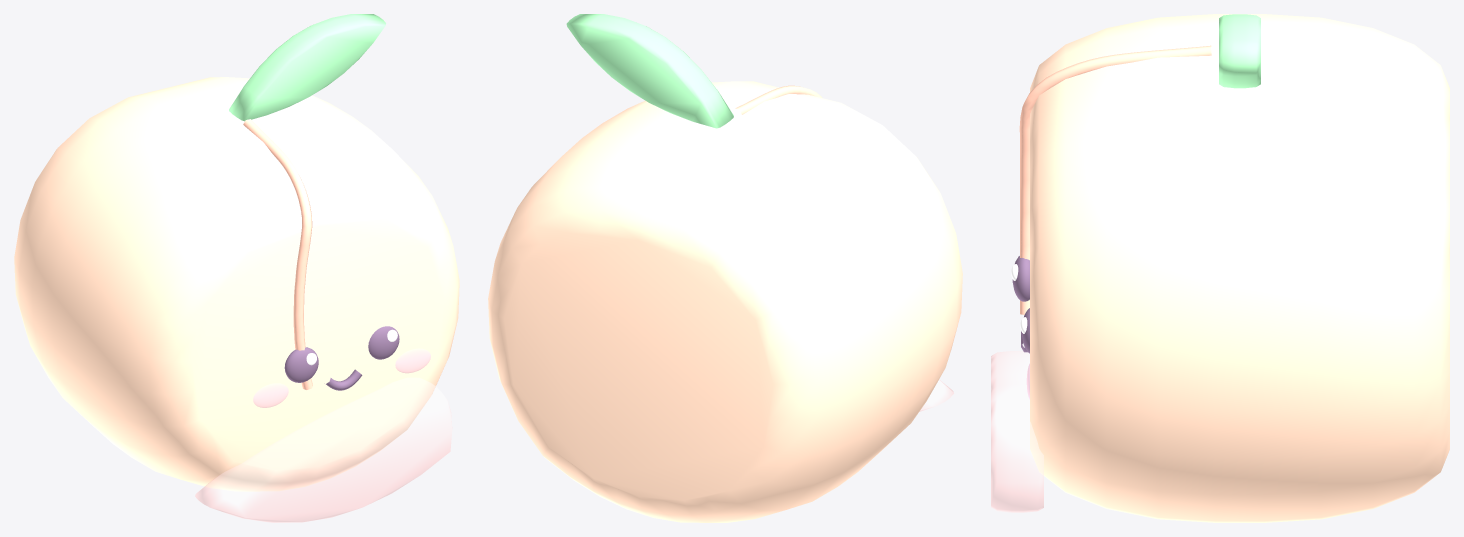
File: squishy_peach.glb
3 views of the same model, side by side, from view 1: azimuth 30°, elevation 25°; view 2: azimuth 150°, elevation 25°; view 3: azimuth 270°, elevation 25° (orthographic). The views are drawn at different scales.
Visible parts, largest first — view 1: peach; view 2: peach; view 3: peach.
Part boxes in pixels (bbox=[...]): peach: bbox=[14, 14, 459, 522]; peach: bbox=[488, 14, 962, 522]; peach: bbox=[991, 14, 1449, 522].
Bounding box in the file's own units: 0.8906 × 1 × 0.7818.
